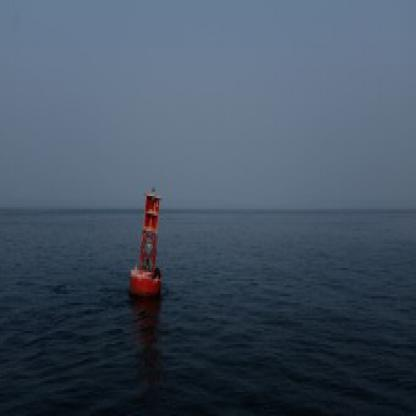buoy: (120, 180, 168, 300)
